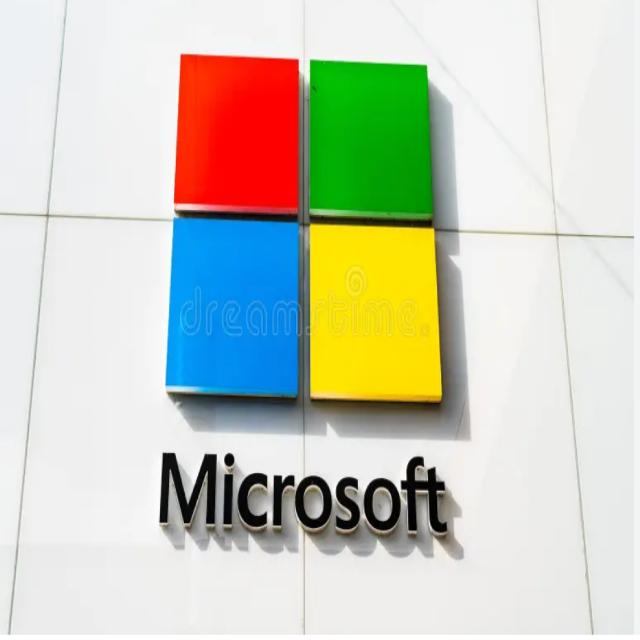microsoft: (163, 52, 443, 402)
microsoft_txt: (156, 451, 448, 540)
